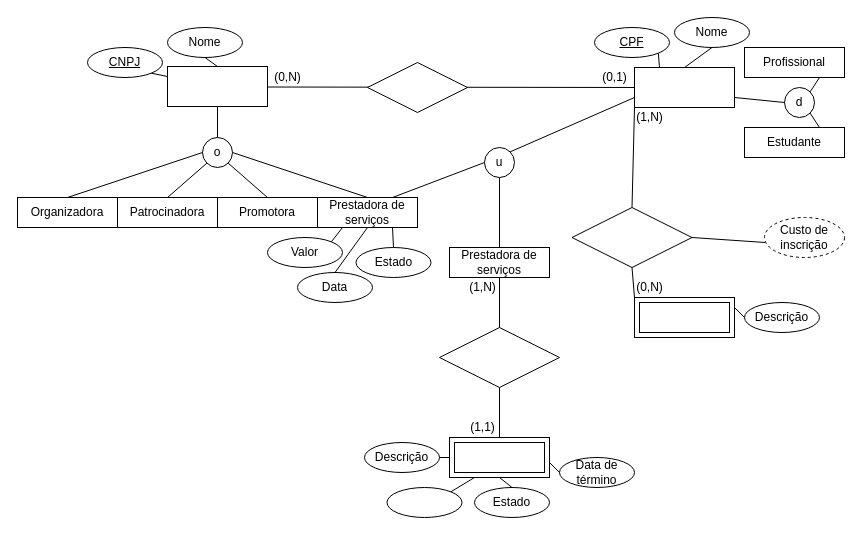
Some shapes in this 862 by 535 pixel diagram are drawn without their labels. The shapes that lost their labels are listed below. From the top down, each one's centre as x and y in pixels, then its label:
(217,86): Empresa
(417,87): Associada
(684,87): Pessoa
(631,237): Inscrição
(684,317): Tarefa
(499,357): Resposabiliza
(499,457): Serviço
(424,502): Custo
